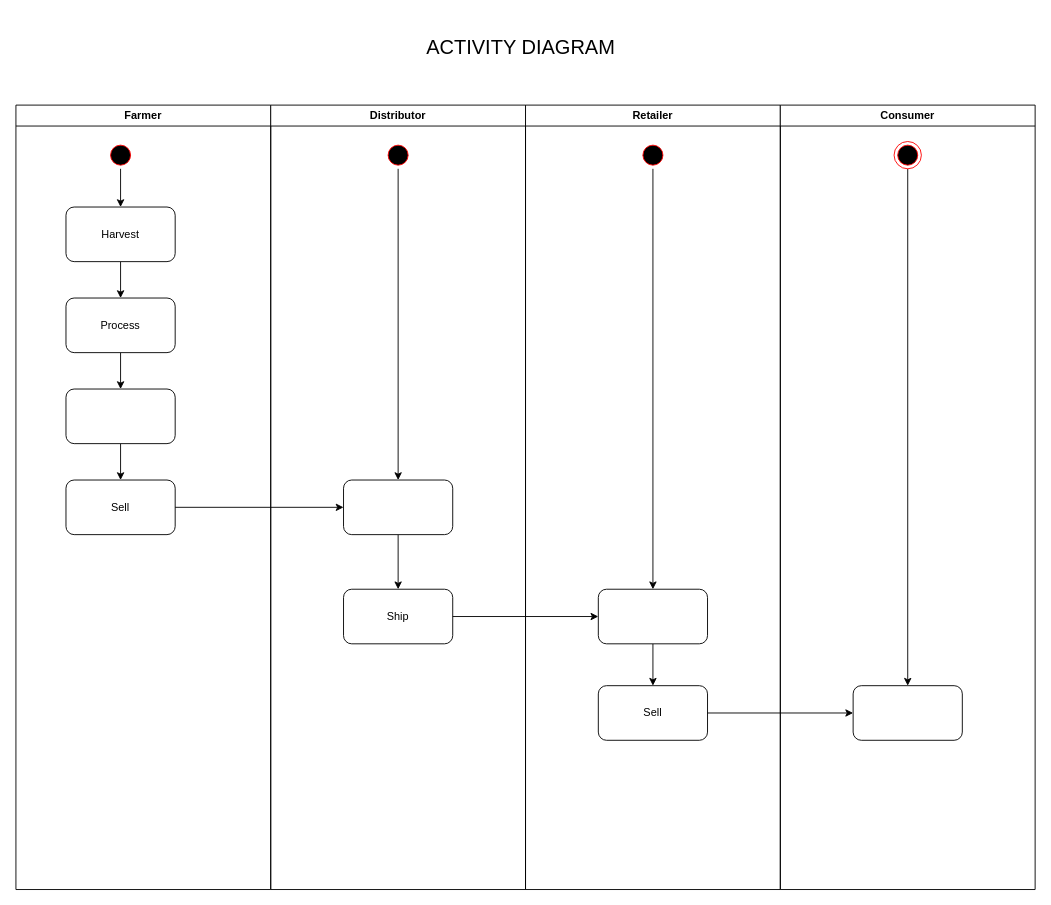
This 1051x905 diagram has some shape labels left out. Here are the shapes that lost their labels. From the top down, the centre of each, then its label:
At point 120,416: "Pack".
At point 398,507: "Buy".
At point 652,616: "Receive".
At point 907,712: "Purchase".
